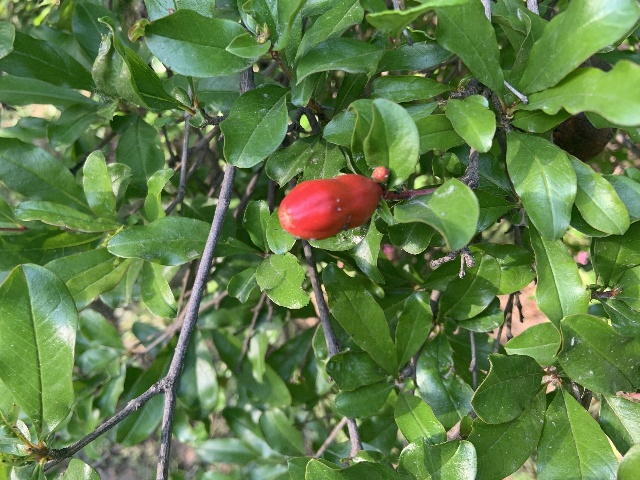bud: (277, 173, 382, 241), (371, 166, 390, 183)
